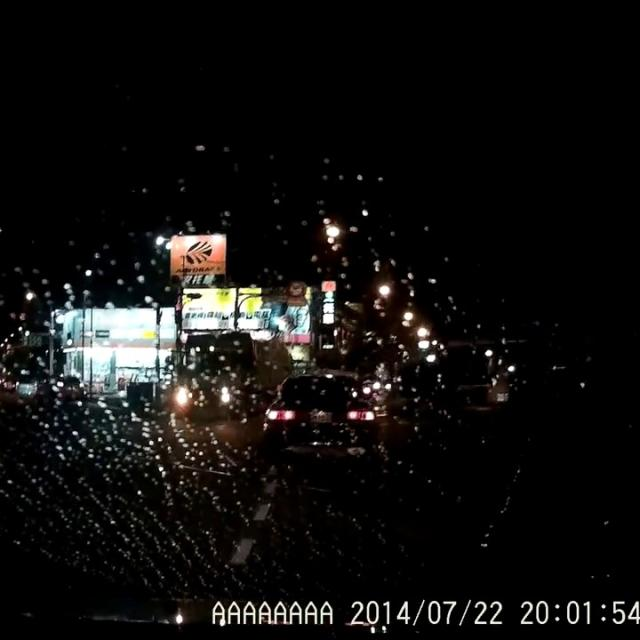Car: (258, 369, 377, 459)
